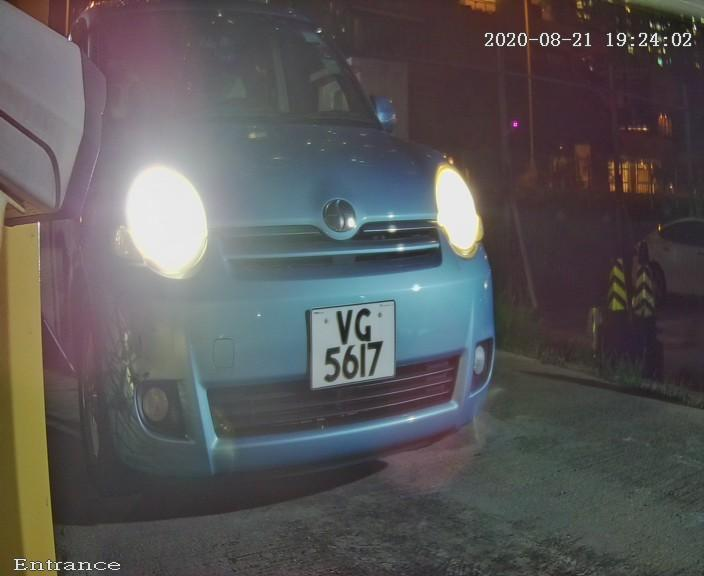Car: (4, 6, 538, 525)
License Plate: (302, 291, 403, 399)
